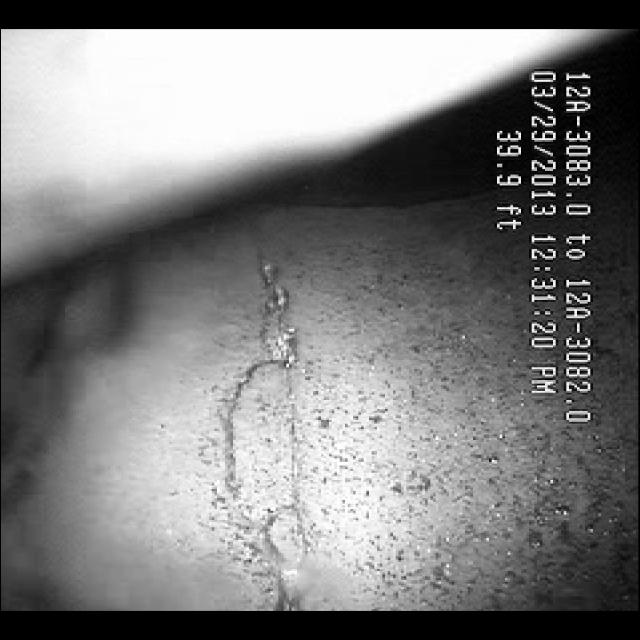Crack: (162, 240, 350, 586)
